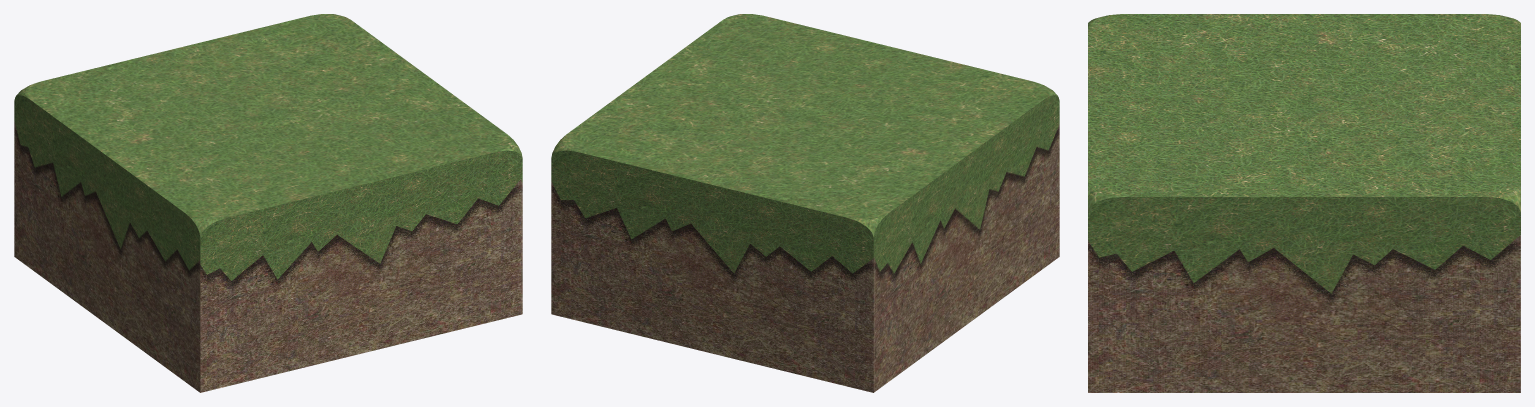
Rendered from GrassBlock.fbx.
3 renders of one model, left to right at view 1: azimuth 30°, elevation 25°; view 2: azimuth 150°, elevation 25°; view 3: azimuth 270°, elevation 25°, orthographic. The views are drawn at different scales.
Parts seen in each view (by area): view 1: Cube.008; view 2: Cube.008; view 3: Cube.008.
Boxes of the visible parts, x1,y1,x2,y2 form: Cube.008: [14, 14, 522, 392]; Cube.008: [551, 14, 1059, 392]; Cube.008: [1088, 14, 1520, 392].
Size of the model in its own units: 400 by 200 by 400.
